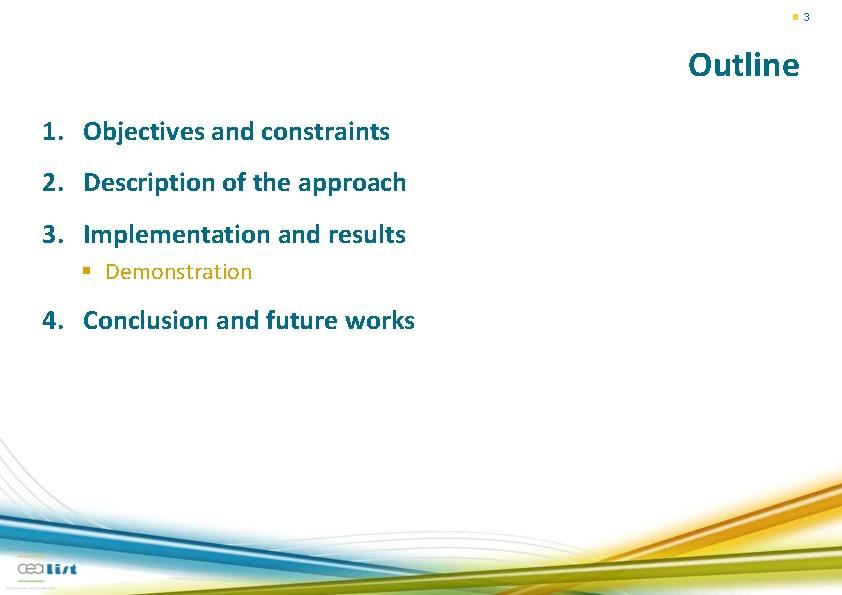subtitle: (34, 103, 453, 352)
title: (683, 36, 815, 92)
